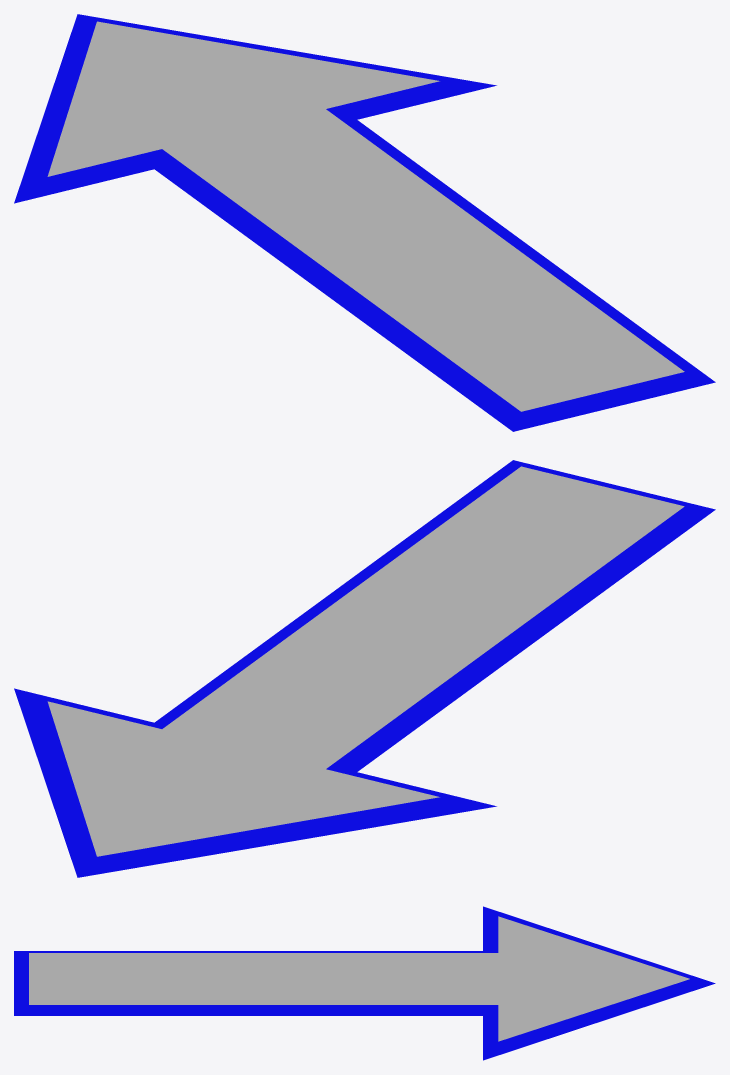
File: Car6_Arrow.fbx
The picture shows the model from 3 angles, top to bottom: view 1: azimuth 30°, elevation 25°; view 2: azimuth 150°, elevation 25°; view 3: azimuth 270°, elevation 25°; orthographic projection. The views are drawn at different scales.
Parts seen in each view (by area): view 1: pCube6, pCube7; view 2: pCube6, pCube7; view 3: pCube6, pCube7.
Part boxes in pixels (x1,y1,x2,y2): pCube6: [47, 21, 684, 411]; pCube7: [14, 14, 715, 431]; pCube6: [47, 466, 684, 856]; pCube7: [14, 460, 715, 877]; pCube6: [29, 916, 689, 1041]; pCube7: [14, 906, 715, 1060].
Size of the model in its own units: 73.83 by 1 by 142.
